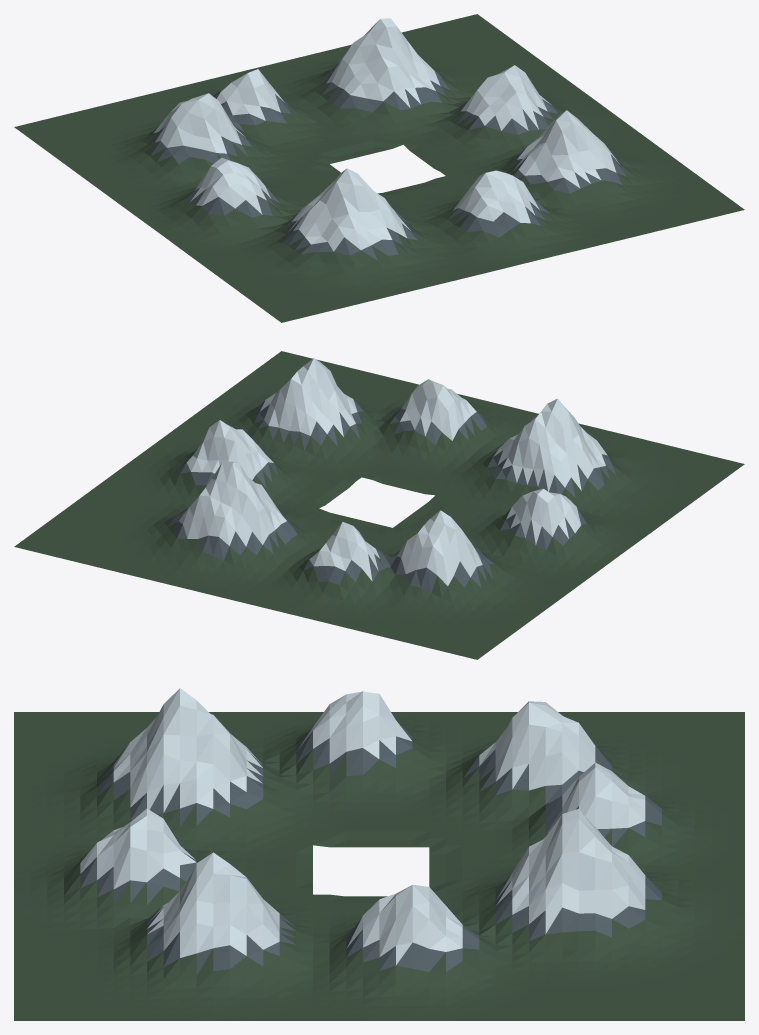
Rendered from mountains-frost.obj.
3 views of the same model, one above another, from view 1: azimuth 30°, elevation 25°; view 2: azimuth 150°, elevation 25°; view 3: azimuth 270°, elevation 25° (orthographic). The views are drawn at different scales.
Bounding box in the file's own units: 352 × 58.54 × 352.
